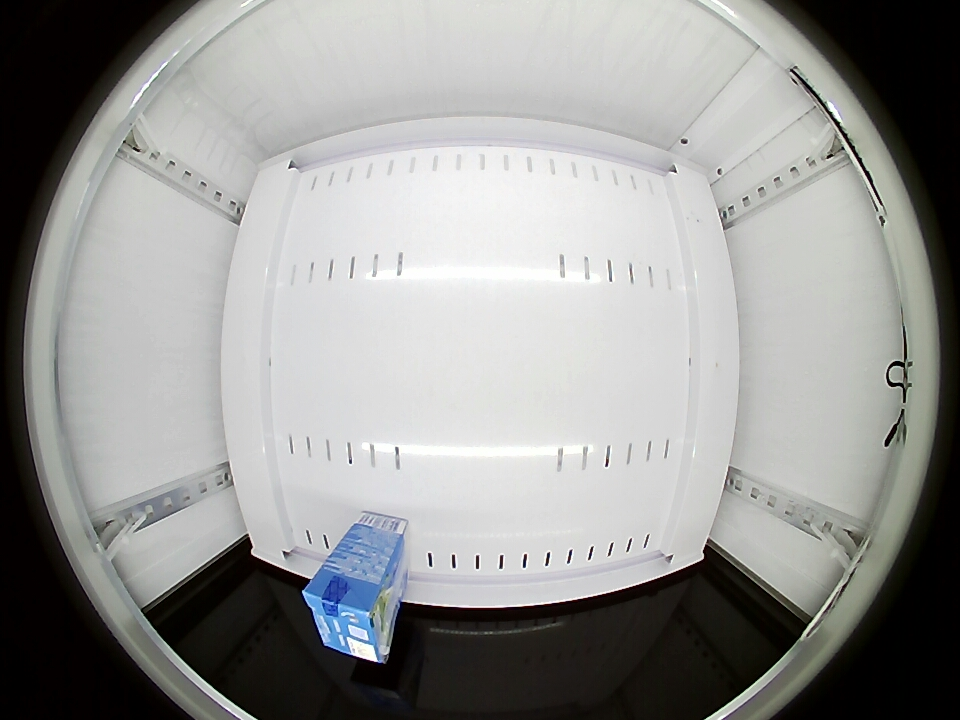weitanai: (303, 566, 394, 663)
